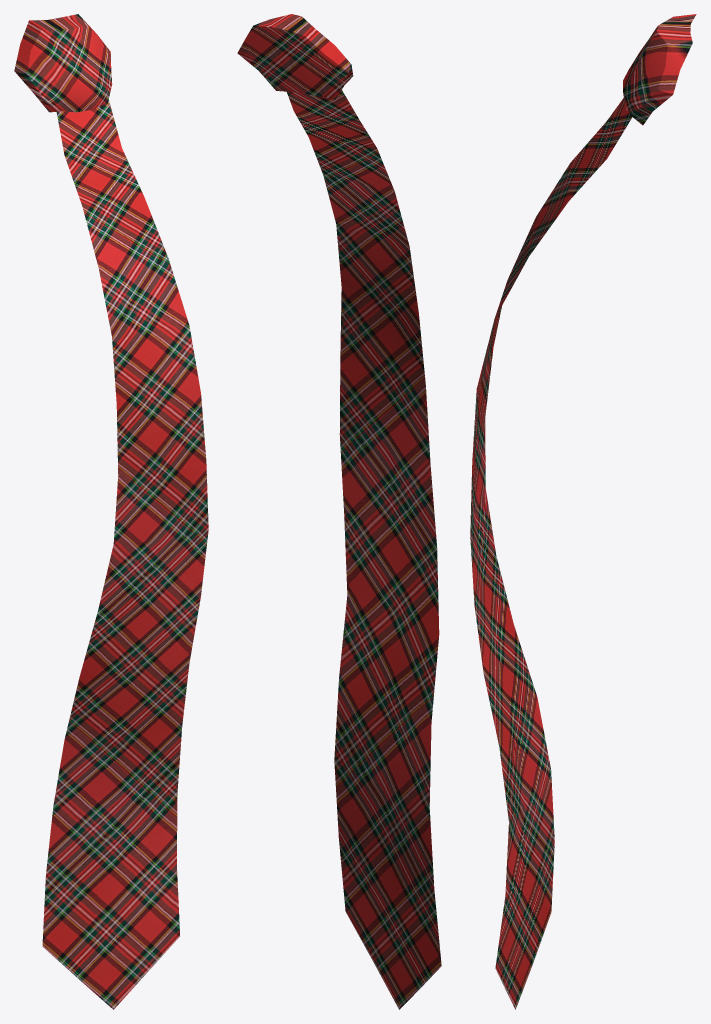
The model's file is Pose-6_SuitTie-1.fbx.
3 views of the same model, side by side, from view 1: azimuth 30°, elevation 25°; view 2: azimuth 150°, elevation 25°; view 3: azimuth 270°, elevation 25° (orthographic). The views are drawn at different scales.
Parts seen in each view (by area): view 1: Pose-6_SuitTie-1; view 2: Pose-6_SuitTie-1; view 3: Pose-6_SuitTie-1.
Boxes of the visible parts, box(x1,y1,x2,y2) form: Pose-6_SuitTie-1: box(14, 14, 208, 1009); Pose-6_SuitTie-1: box(237, 14, 441, 1009); Pose-6_SuitTie-1: box(470, 14, 696, 1009).
Size of the model in its own units: 7.44 by 51.36 by 10.58.
